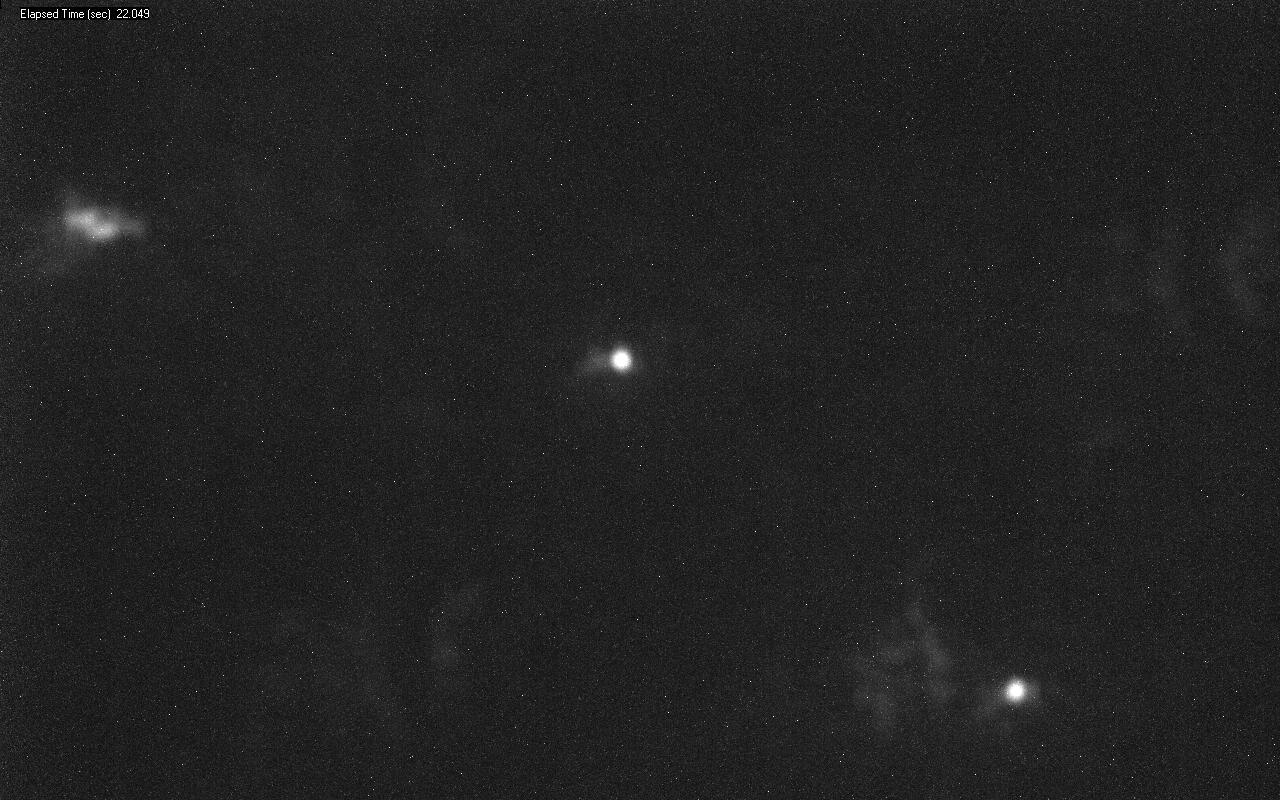Bead: (1006, 679, 1025, 703), (611, 348, 631, 370)
